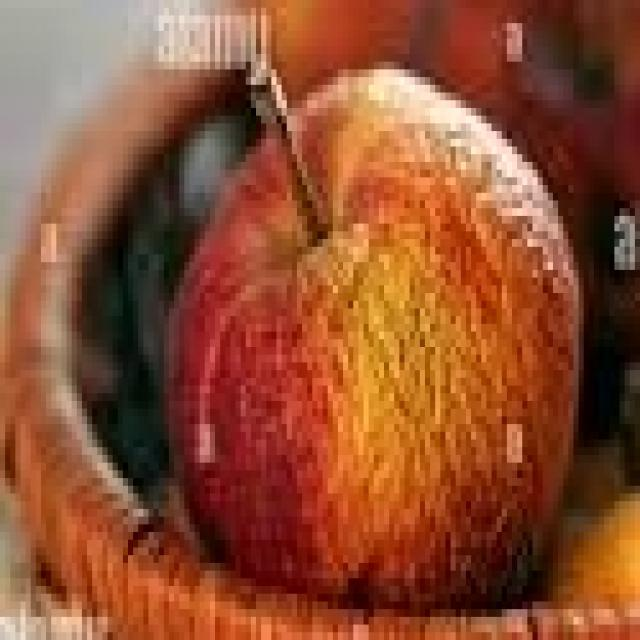overripe: (162, 59, 591, 620)
